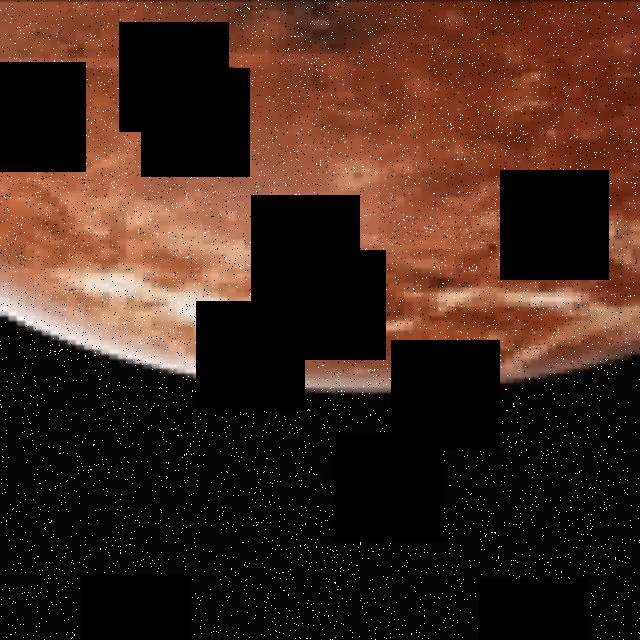Venus: (0, 0, 640, 392)
